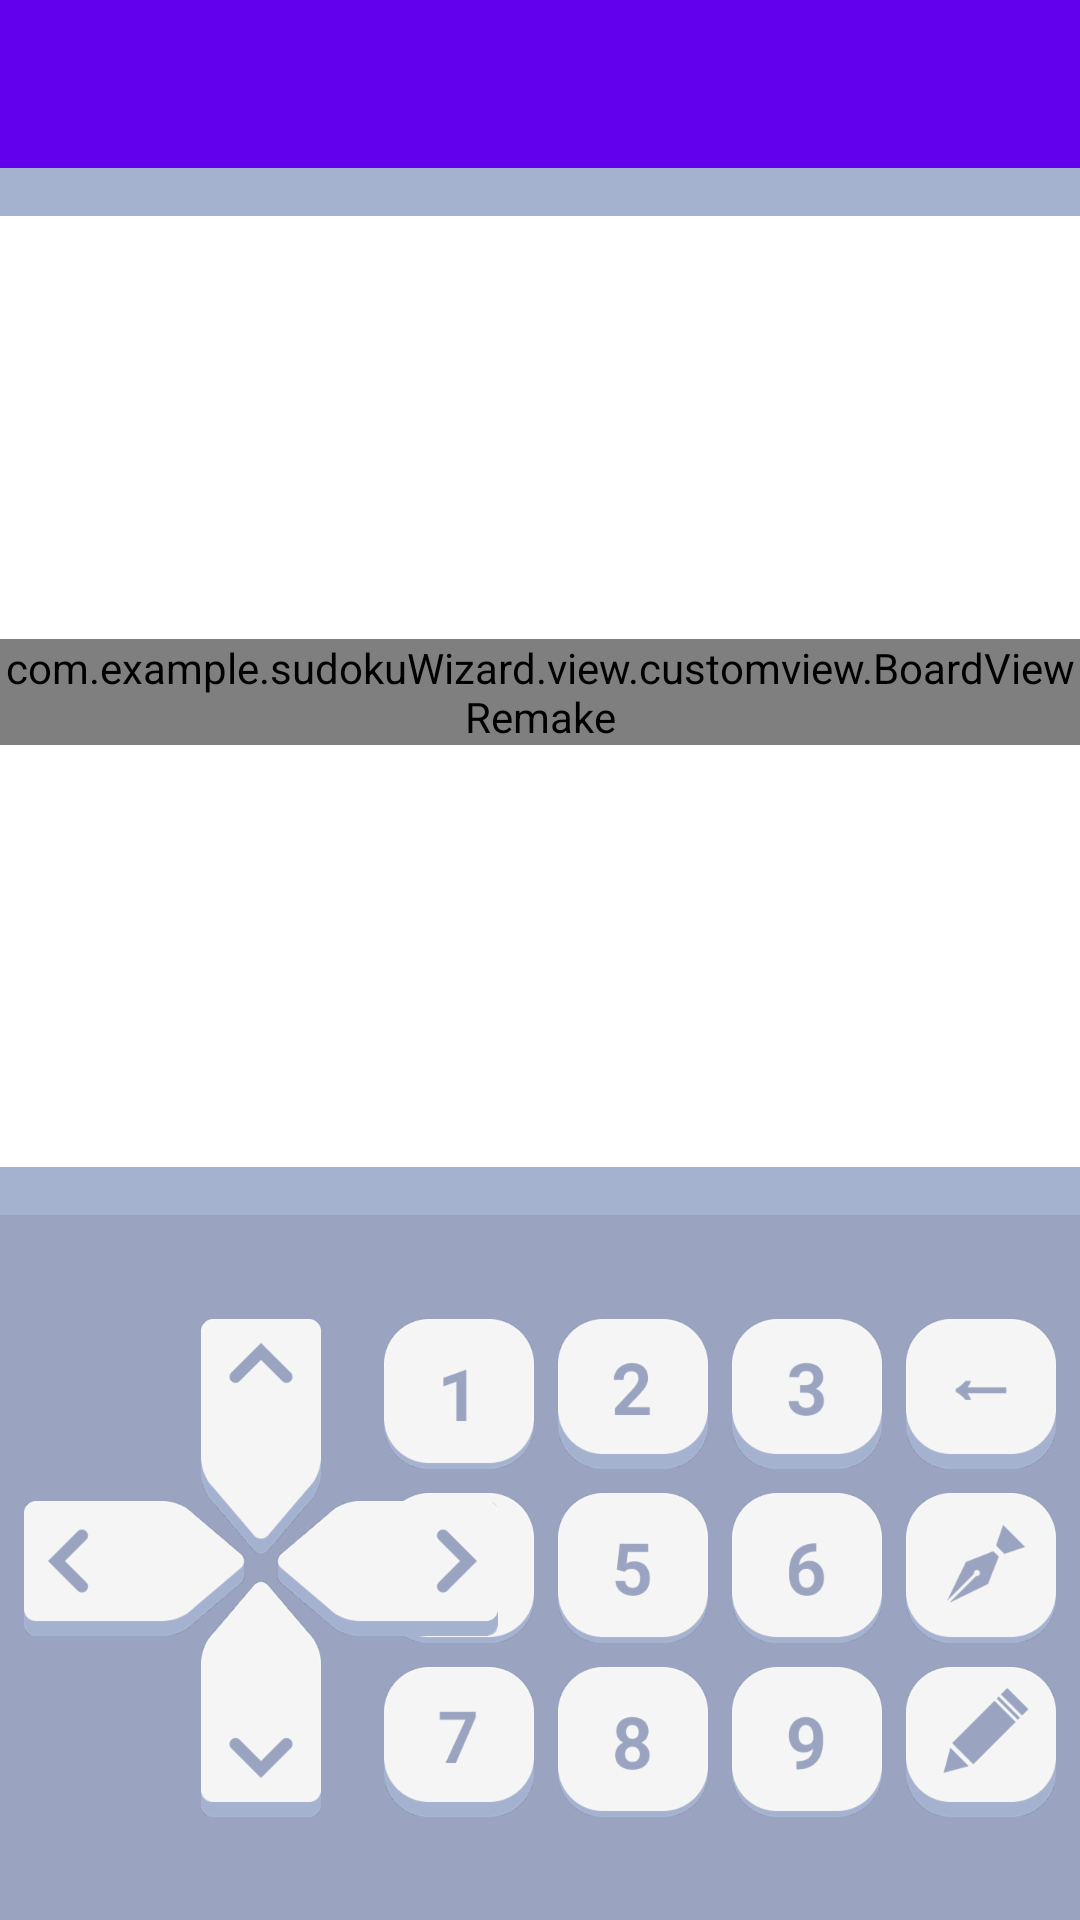

Point at icon controls on the screen. Image size 1080w x 1920h, points as (x=x, y=y).
dpad down states: (x=261, y=1692)
dpad left states: (x=134, y=1561)
dpad up states: (x=261, y=1429)
